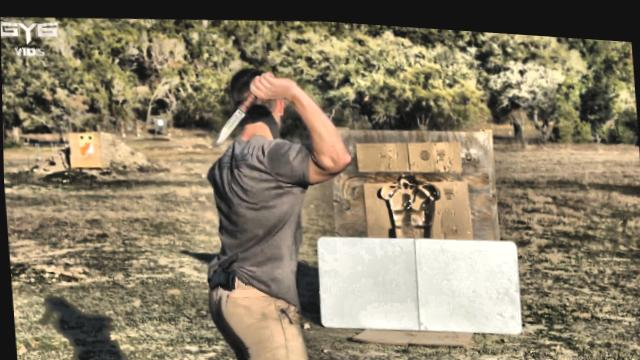knife: (205, 60, 285, 154)
